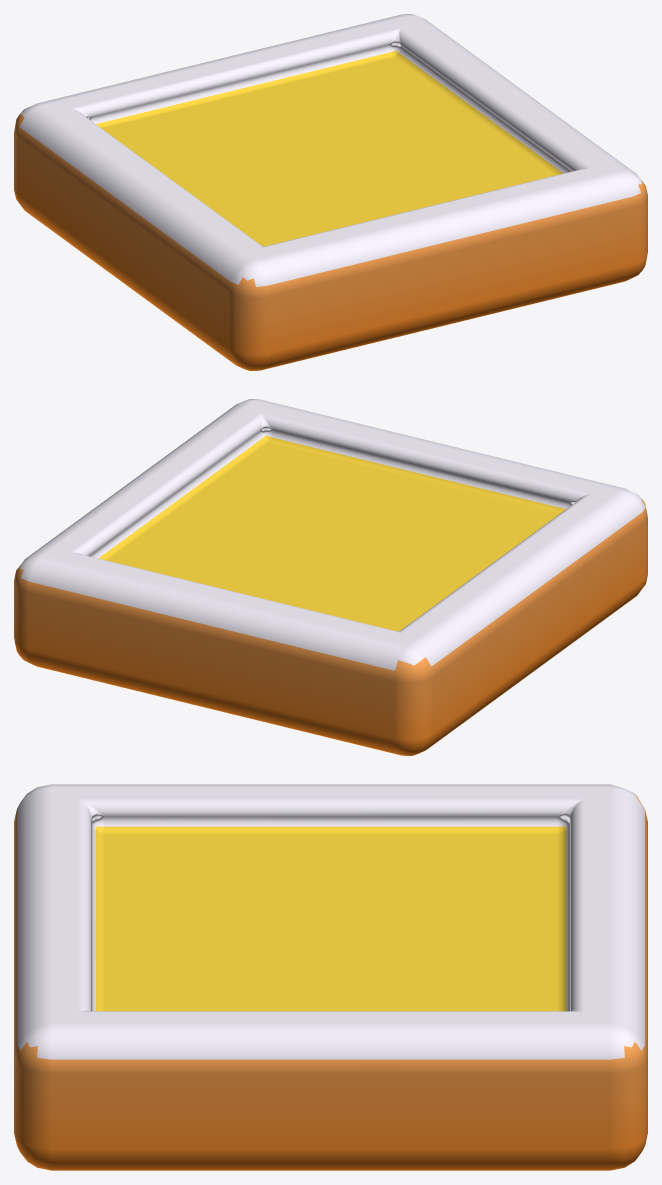
File: tile_2x2.glb
3 views of the same model, one above another, from view 1: azimuth 30°, elevation 25°; view 2: azimuth 150°, elevation 25°; view 3: azimuth 270°, elevation 25° (orthographic). The views are drawn at different scales.
Visible parts, largest first — view 1: tile_2x2; view 2: tile_2x2; view 3: tile_2x2.
Boxes of the visible parts, x1=… form: tile_2x2: x1=14, y1=14, x2=647, y2=370; tile_2x2: x1=14, y1=399, x2=647, y2=755; tile_2x2: x1=14, y1=784, x2=647, y2=1170.
Bounding box in the file's own units: 2 × 0.5 × 2.
Materials: 1 (1 with a texture image).
